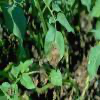Potato leaf late blight: (44, 26, 64, 71)
